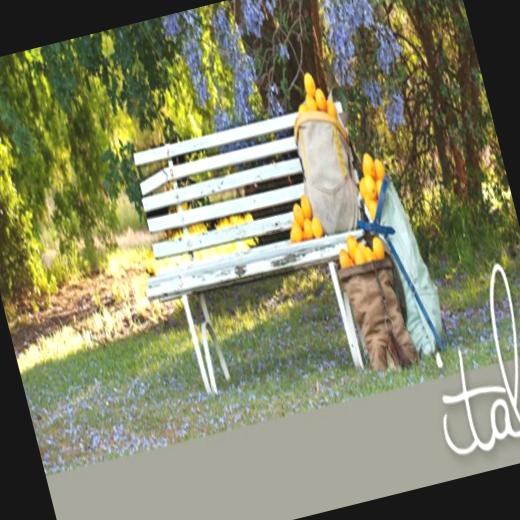Grape: (350, 144, 400, 226), (295, 66, 341, 128), (281, 190, 324, 244), (335, 229, 386, 267)
